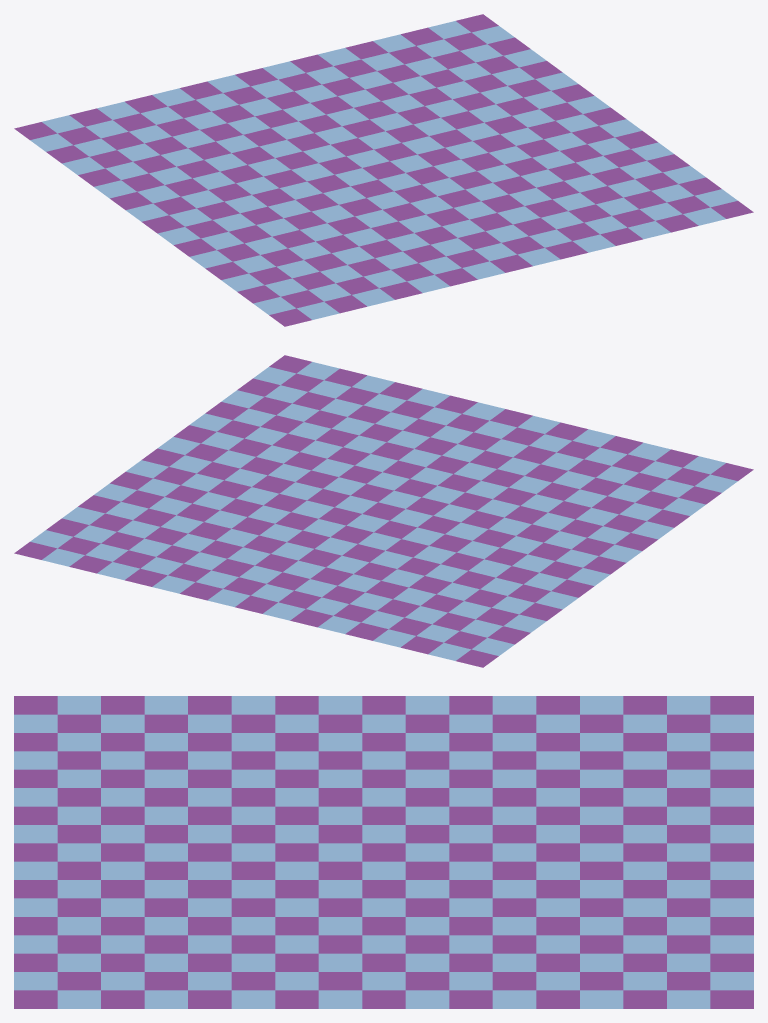
Rendered from chest15_grid.obj.
The picture shows the model from 3 angles, top to bottom: view 1: azimuth 30°, elevation 25°; view 2: azimuth 150°, elevation 25°; view 3: azimuth 270°, elevation 25°; orthographic projection. The views are drawn at different scales.
Visible parts, largest first — view 1: grid12; view 2: grid12; view 3: grid12.
Boxes of the visible parts, box(x1,y1,x2,y2) form: grid12: box(14, 14, 753, 326); grid12: box(14, 355, 753, 667); grid12: box(14, 696, 753, 1008).
Bounding box in the file's own units: 1000 × 0 × 1000.
